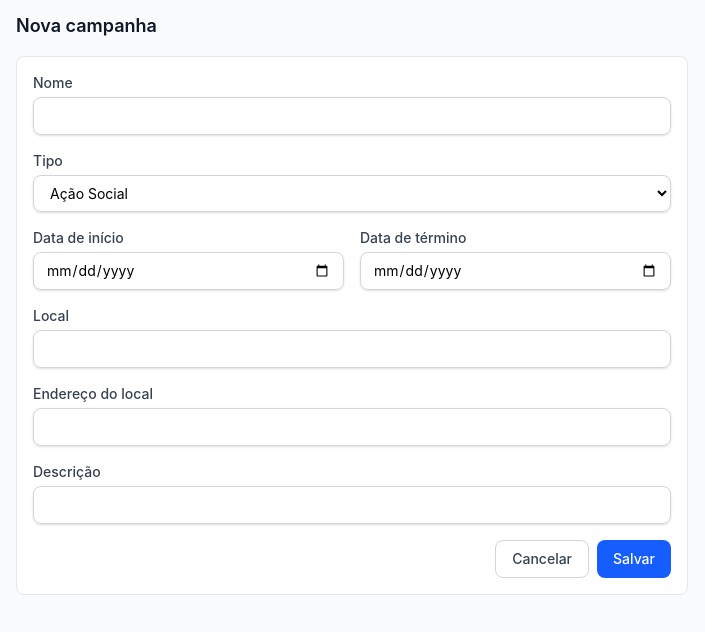
Test: CampaignFormPage › shows a required-field message when name is missing
The image size is (705, 632).
Type "2026-07-10" into the date field labelled "Data de início". click: (188, 271)
box: [33,252,344,290]
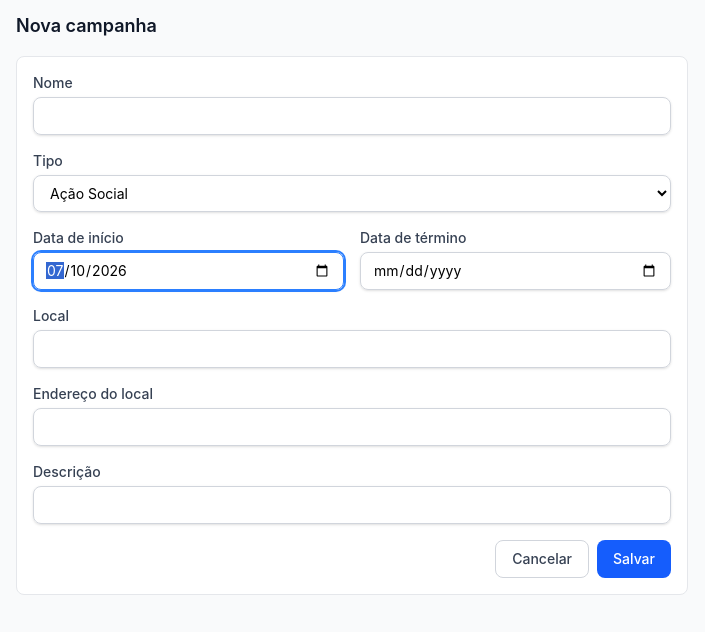
Click the button "Salvar". click: (634, 559)
box: [597,540,671,578]
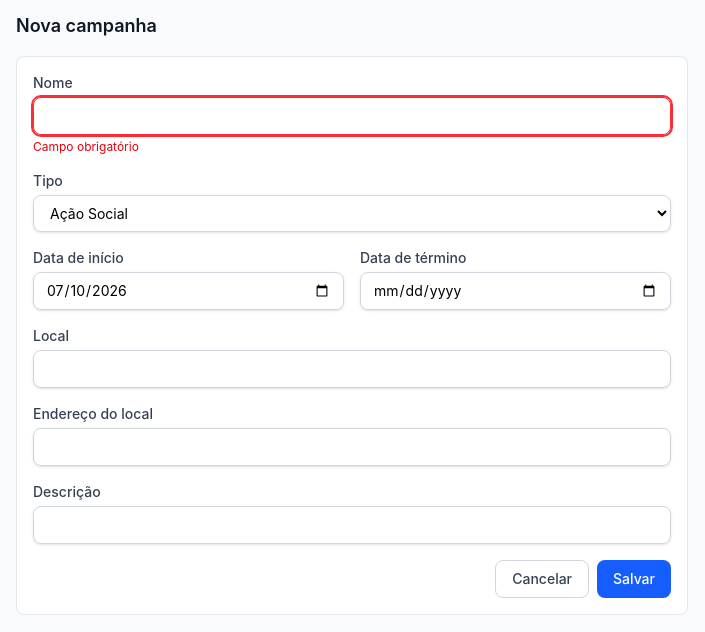
Check: the text "Campo obrigatório" is shown, box [33,139,139,154]
